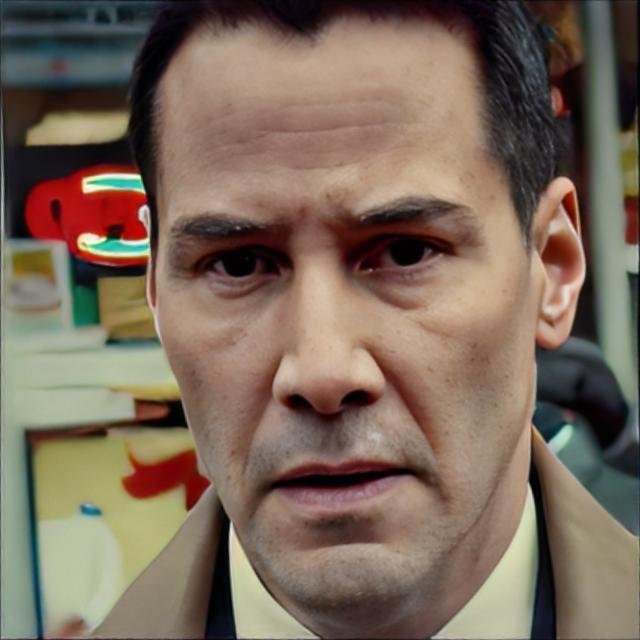anger: (142, 15, 537, 612)
